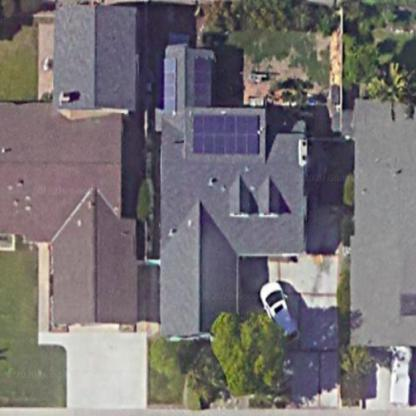car: (261, 274, 297, 344)
solar_panel: (186, 113, 271, 161), (149, 54, 180, 115), (188, 54, 214, 109)
